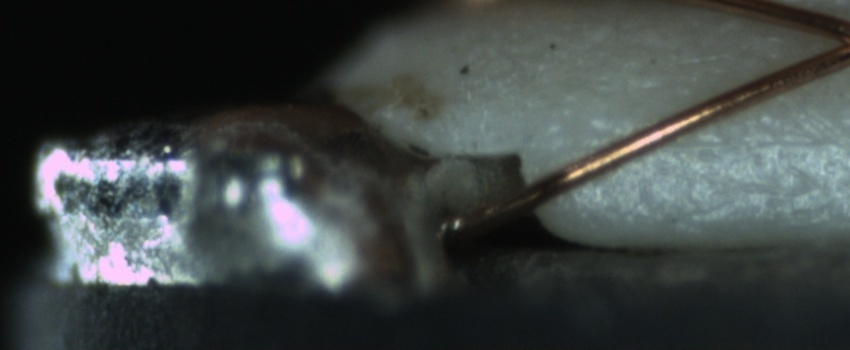DL: (630, 111, 845, 172)
